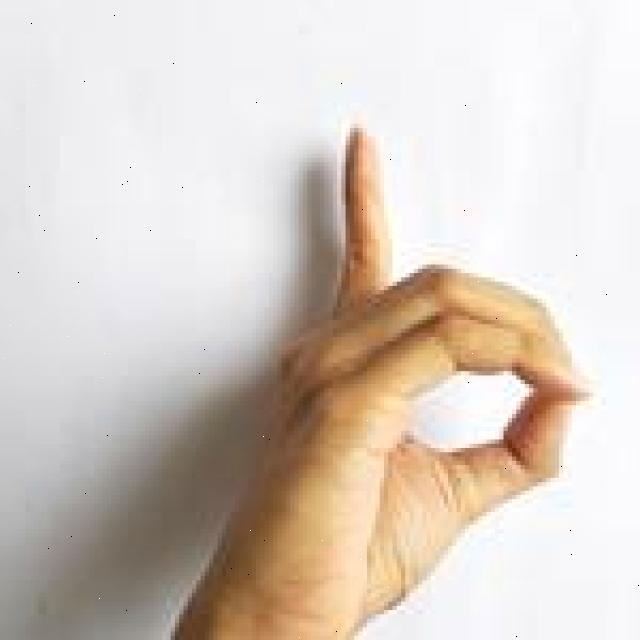D: (174, 122, 598, 640)
